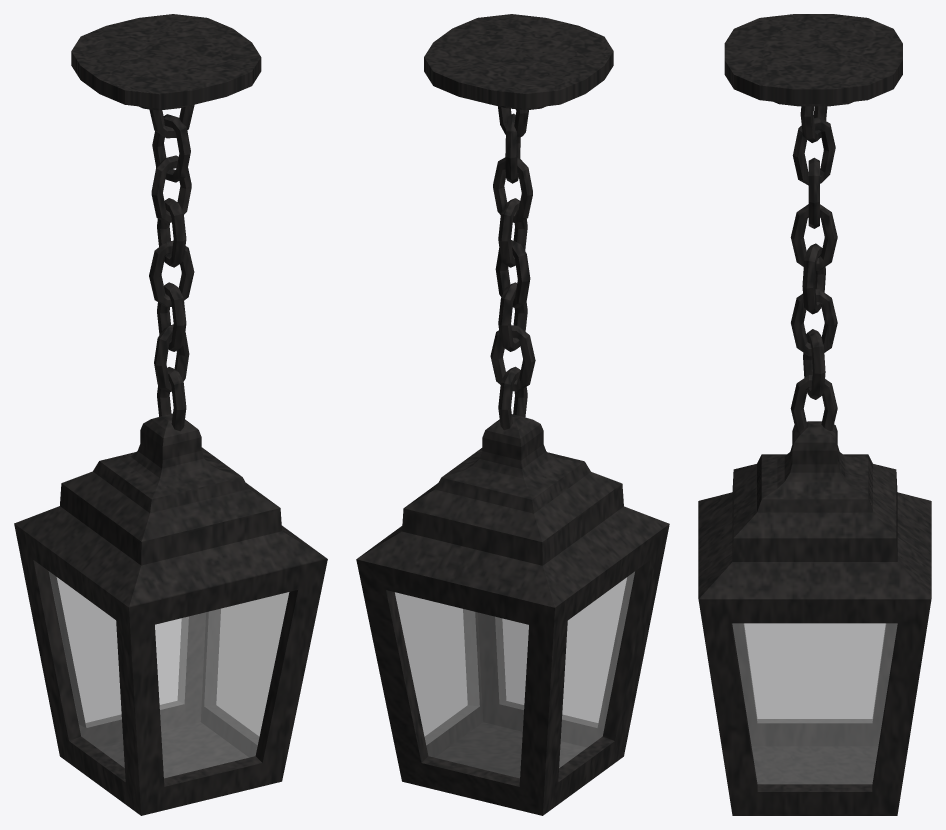
File: model_iluminacaoteto_01.fbx
The picture shows the model from 3 angles, left to right: view 1: azimuth 30°, elevation 25°; view 2: azimuth 150°, elevation 25°; view 3: azimuth 270°, elevation 25°; orthographic projection.
Visible parts, largest first — view 1: lampada; view 2: lampada; view 3: lampada.
Boxes of the visible parts, <box> form: lampada: <box>14,14,327,815</box>; lampada: <box>356,14,669,815</box>; lampada: <box>698,14,931,815</box>.
Size of the model in its own units: 0.6497 by 2.24 by 0.6497.
Materials: 2 (1 with a texture image).
